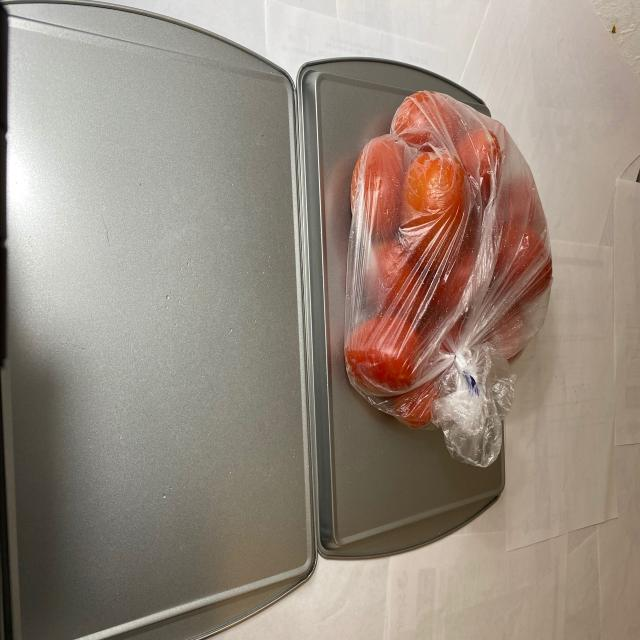tomato: (352, 86, 554, 428)
